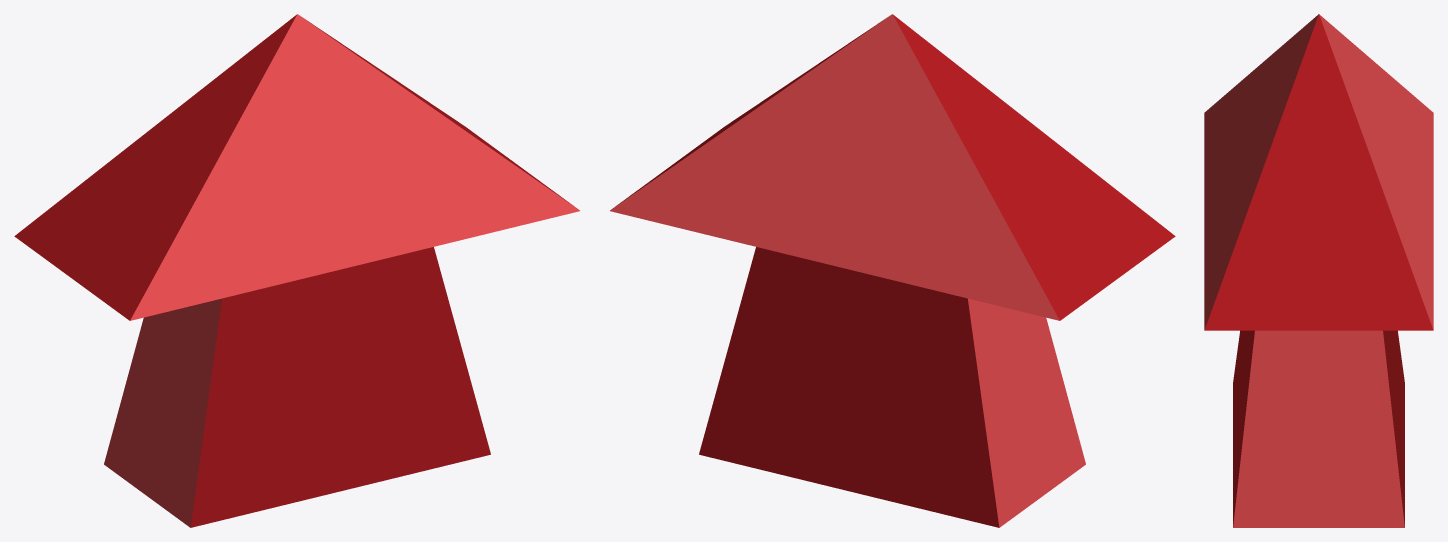
The picture shows the model from 3 angles, left to right: view 1: azimuth 30°, elevation 25°; view 2: azimuth 150°, elevation 25°; view 3: azimuth 270°, elevation 25°; orthographic projection.
Parts seen in each view (by area): view 1: ss3d_68_arrow; view 2: ss3d_68_arrow; view 3: ss3d_68_arrow.
Boxes of the visible parts, x1,y1,x2,y2 form: ss3d_68_arrow: (14,14,579,527); ss3d_68_arrow: (610,14,1175,527); ss3d_68_arrow: (1204,14,1433,527).
Bounding box in the file's own units: 1.41 × 1.33 × 0.625.
Materials: 1 (1 with a texture image).
